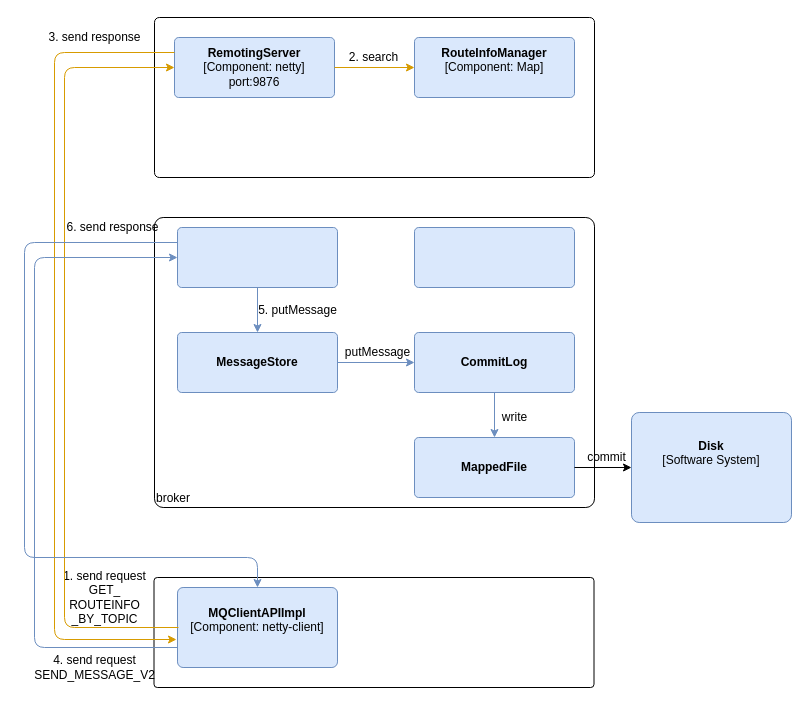
This 809x705 diagram has some shape labels left out. Here are the shapes that lost their labels. From the top down, the box of each, then its label:
(154, 16, 594, 178): namesrv
(176, 226, 338, 288): RemotingServer [Component: netty-server ] port:10911
(414, 226, 574, 288): FastRemotingServer [Component: netty-server ] port:10909
(153, 576, 594, 688): producer
